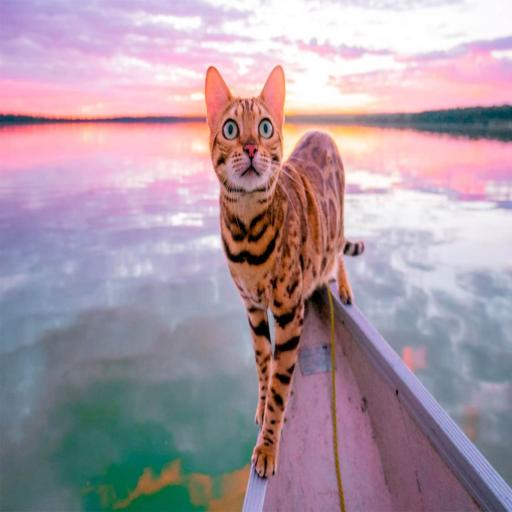cats: (205, 66, 364, 477)
